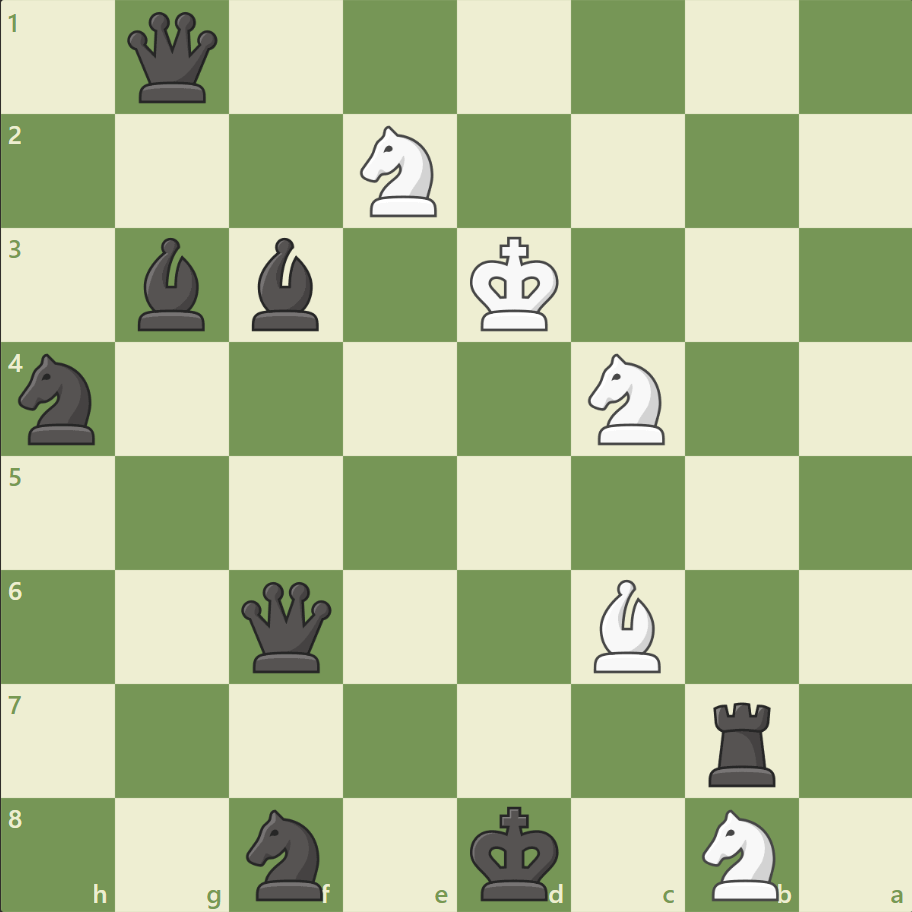B: (585, 574, 669, 676)
K: (465, 231, 565, 339)
N: (351, 121, 449, 223), (692, 802, 789, 904), (579, 348, 676, 450)
b: (244, 233, 328, 336), (131, 233, 215, 336)
k: (465, 798, 565, 906)
n: (238, 802, 335, 904), (11, 348, 108, 450)
q: (237, 576, 336, 676), (124, 9, 223, 108)
r: (700, 693, 783, 790)
